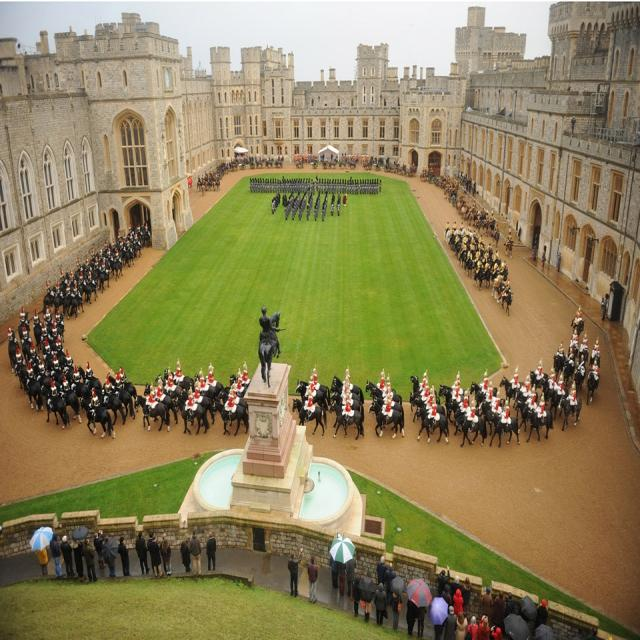body: (292, 290, 602, 448), (7, 222, 153, 444), (186, 152, 481, 223), (152, 301, 280, 437), (458, 255, 514, 317), (503, 607, 556, 640), (480, 207, 514, 255), (442, 222, 481, 255), (80, 536, 98, 584), (287, 545, 303, 598), (372, 581, 389, 627), (134, 529, 151, 574), (69, 534, 84, 584), (383, 560, 398, 606), (150, 534, 165, 579), (189, 529, 203, 577), (389, 588, 404, 632), (49, 531, 62, 580), (117, 535, 132, 577), (307, 554, 319, 604), (492, 588, 504, 638), (60, 535, 73, 581), (361, 580, 374, 624), (147, 529, 159, 576), (405, 590, 417, 637), (179, 532, 192, 573), (460, 576, 472, 620), (205, 529, 217, 572), (93, 528, 105, 570), (449, 574, 464, 607), (103, 537, 115, 578), (432, 602, 445, 639), (161, 535, 173, 575), (436, 566, 451, 598), (337, 552, 347, 598), (481, 586, 493, 623), (444, 605, 457, 639), (345, 558, 356, 598), (352, 573, 362, 617), (34, 547, 49, 576), (416, 605, 428, 639), (329, 554, 340, 590), (454, 611, 468, 639), (376, 554, 387, 587), (465, 614, 479, 639), (452, 588, 464, 616), (478, 613, 490, 639), (517, 597, 548, 607), (441, 584, 452, 608), (601, 292, 610, 321), (490, 623, 503, 640), (159, 532, 168, 556), (507, 591, 516, 614), (532, 233, 538, 264), (540, 244, 546, 271), (555, 251, 562, 273), (517, 224, 521, 242), (515, 219, 518, 235)
